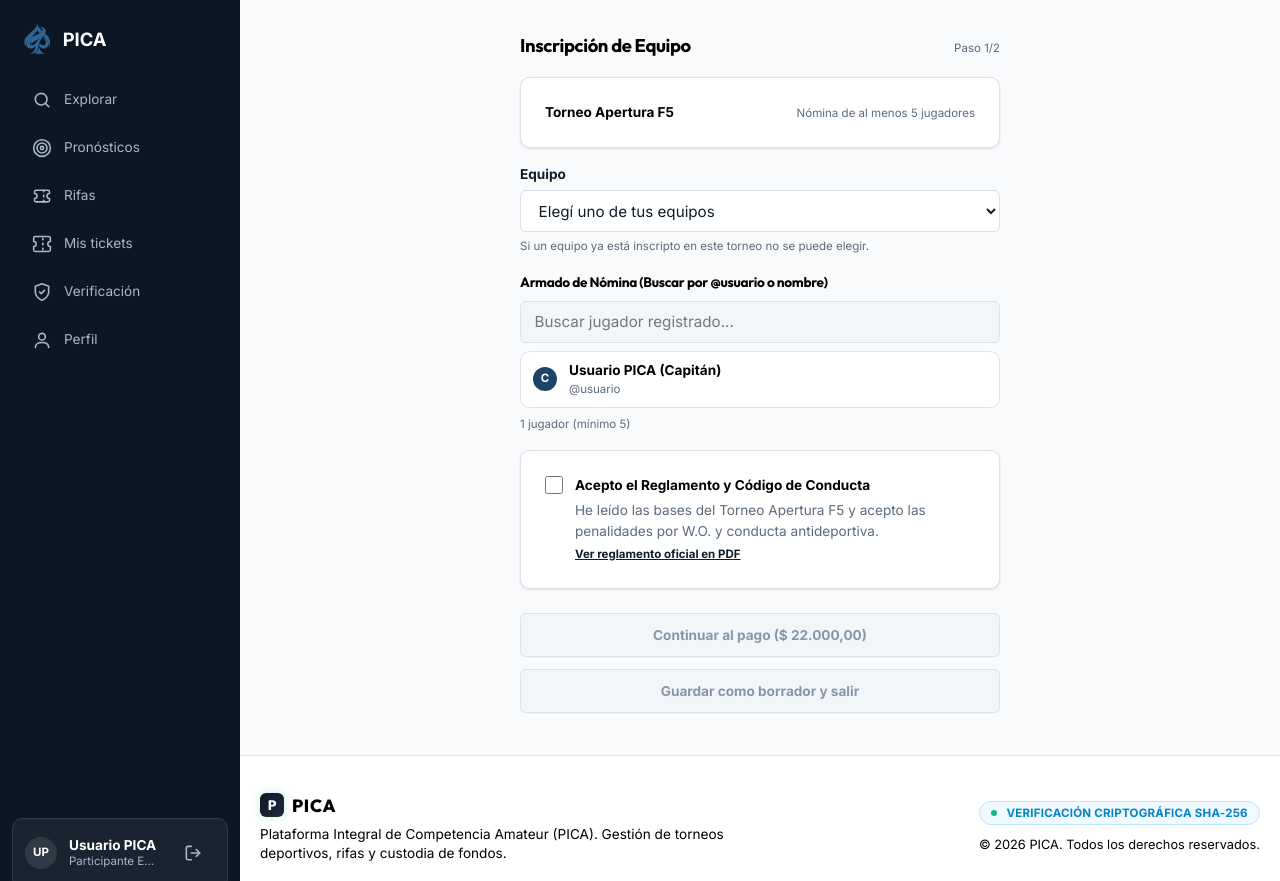
Test: paso 1: equipo y nómina (alta) › saca a un jugador de la nómina
Type "lucas" into the search field labelled "Buscar jugador registrado..." at (760, 322), box [520,301,1000,343]
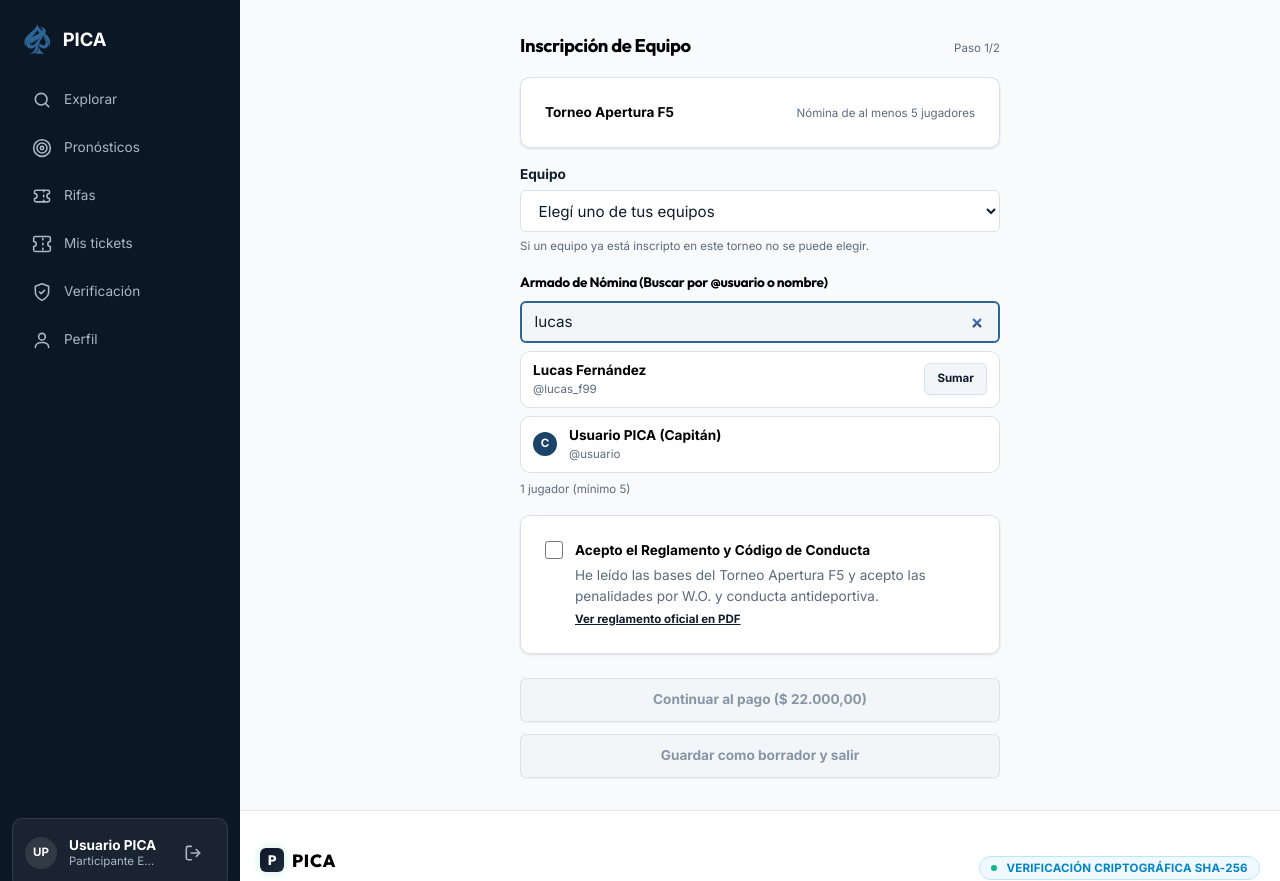
Click the button with aria-label "Sumar a Lucas Fernández" at (956, 379), box [924,363,987,395]
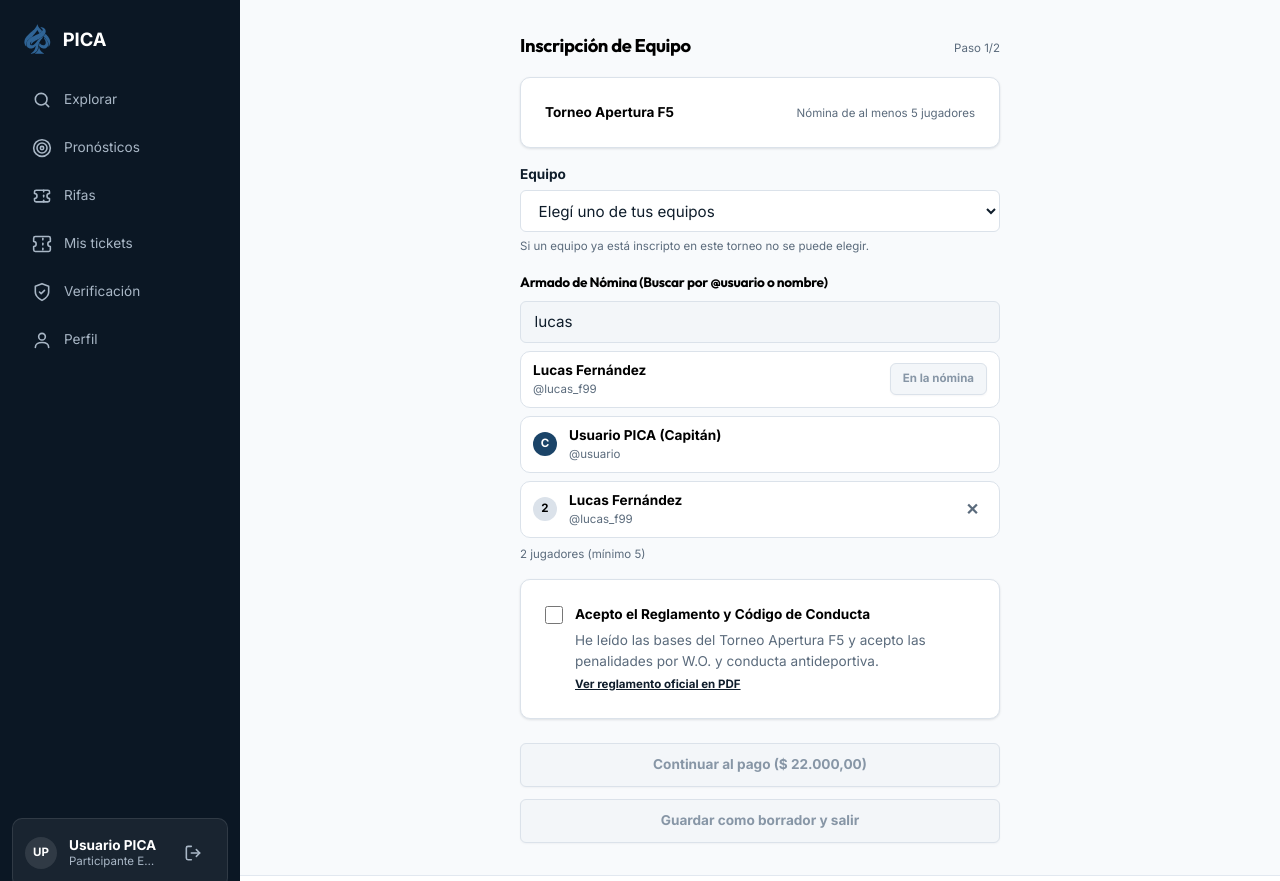
Click the button named "Sacar a Lucas Fernández" at (972, 509), box [958,493,987,526]
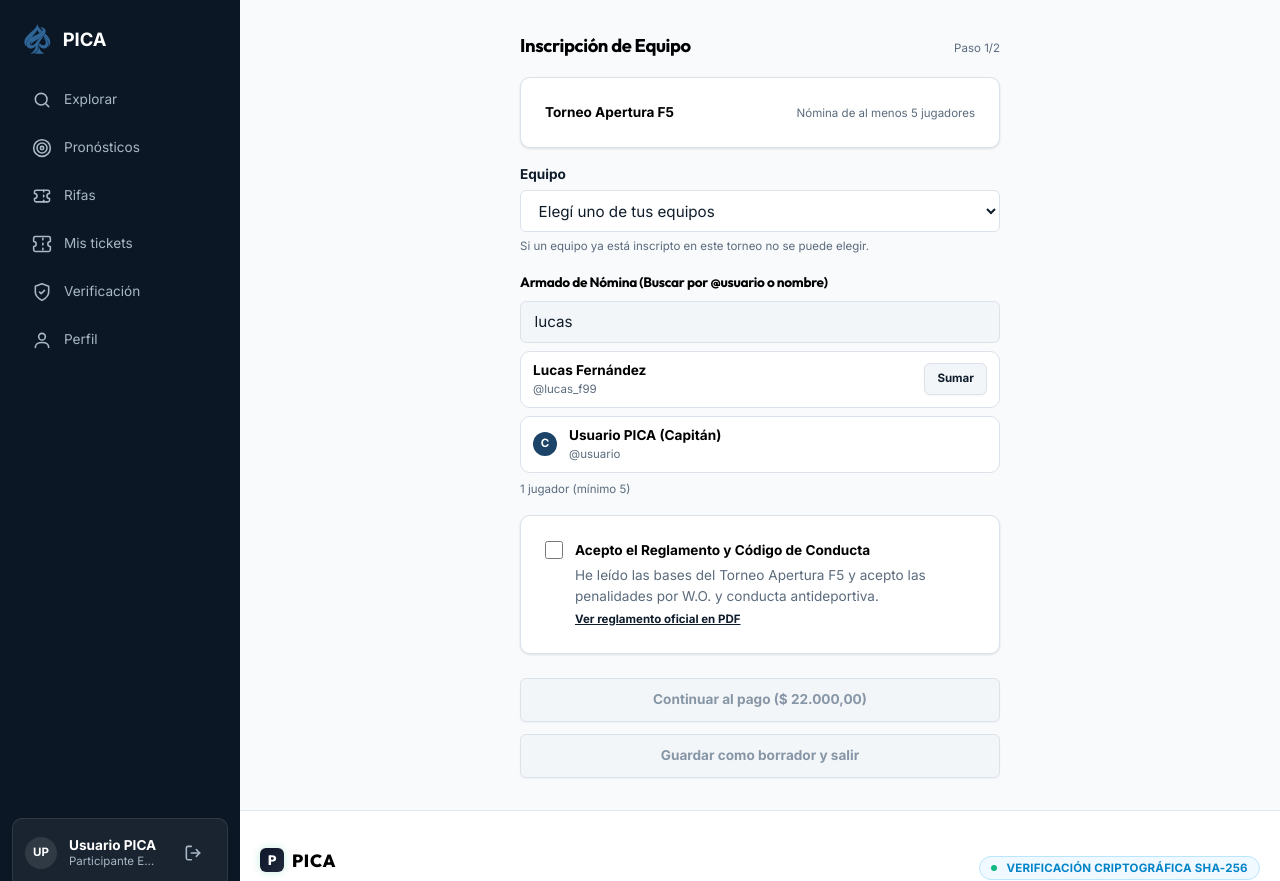
expect the text "1 jugador (mínimo 5)" is shown: met, box [520,482,630,496]
expect the button with aria-label "Sumar a Lucas Fernández" is enabled: met, box [924,363,987,395]
